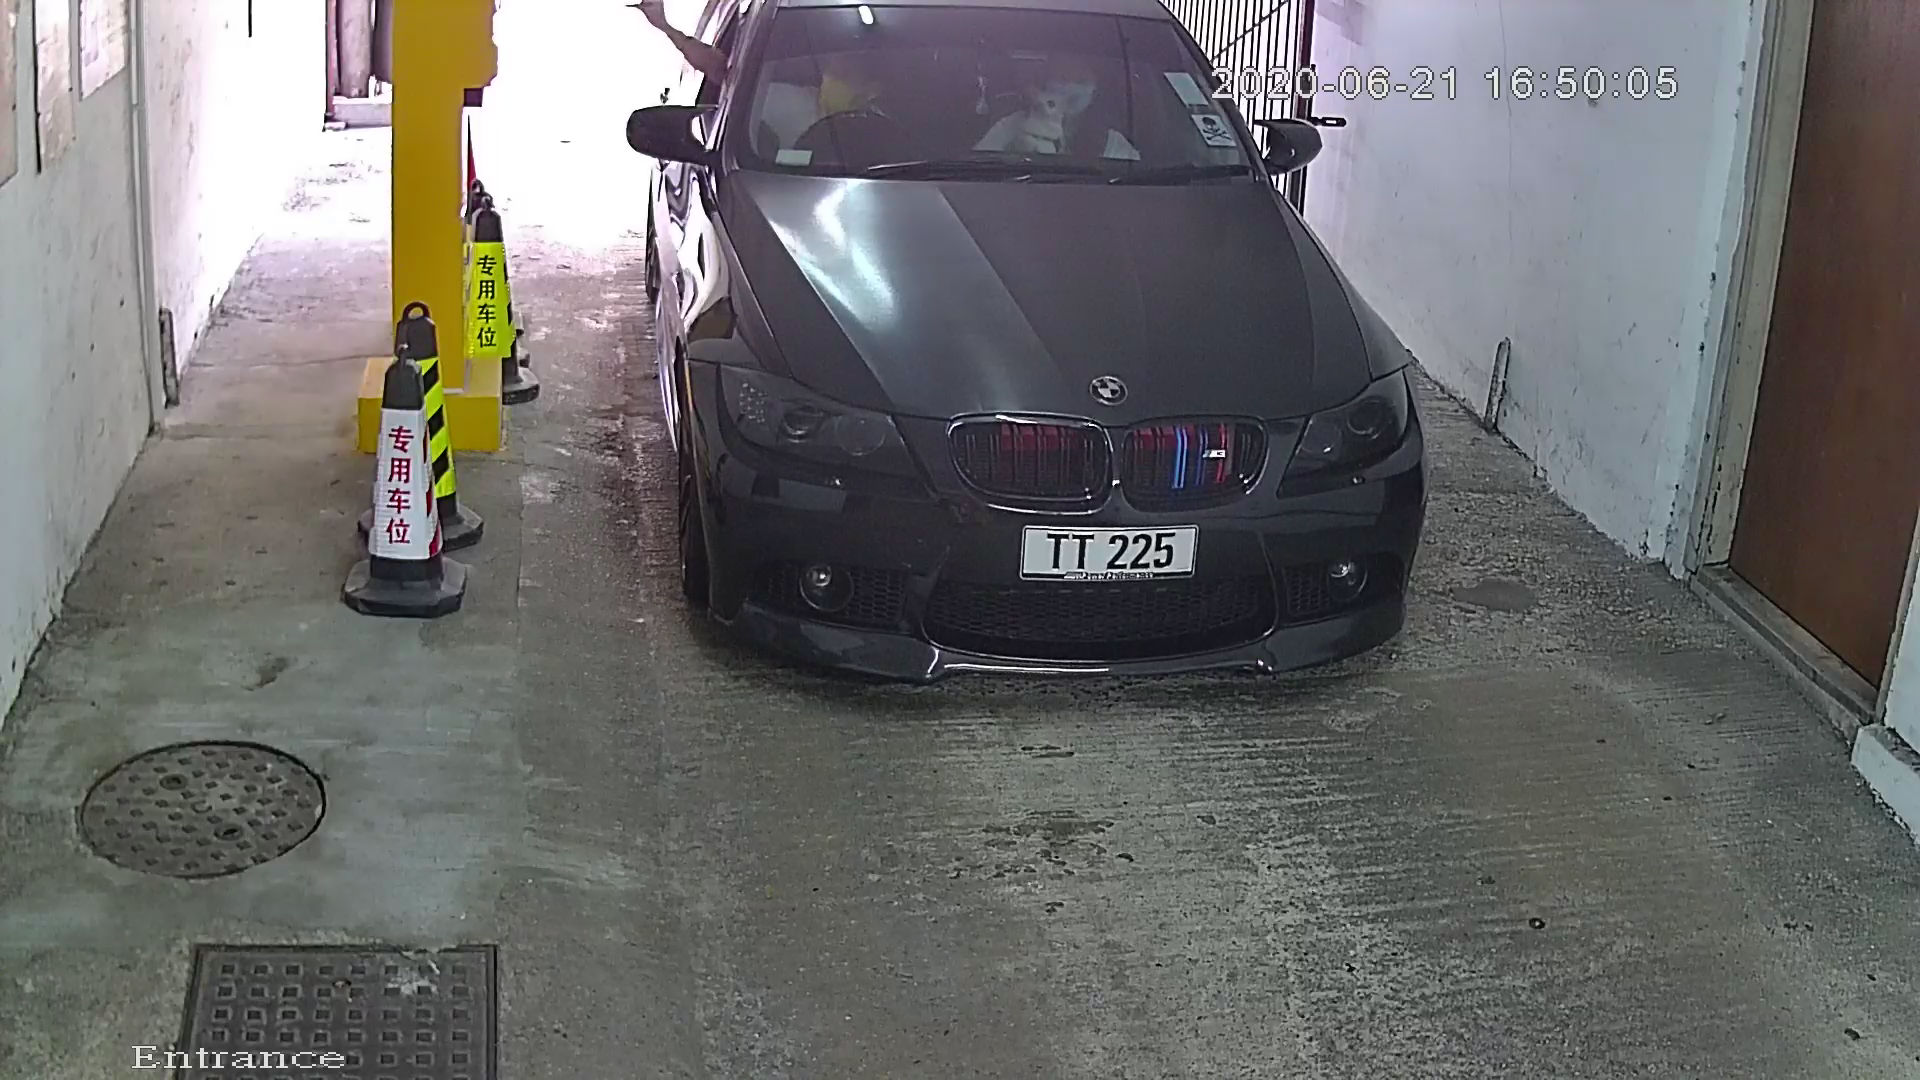privatecar: (593, 1, 1427, 742)
